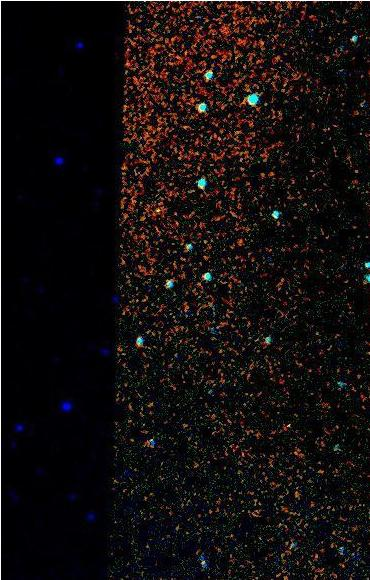star: (276, 411, 306, 441)
